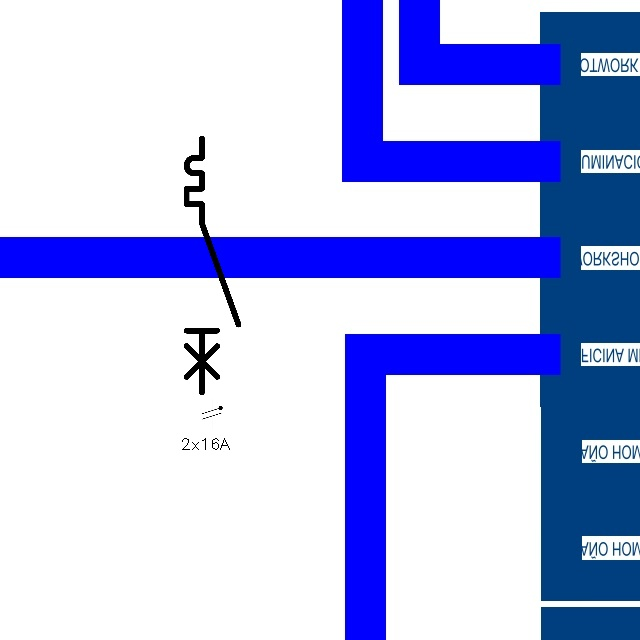interruptor_termomagnetico: (180, 132, 245, 399)
